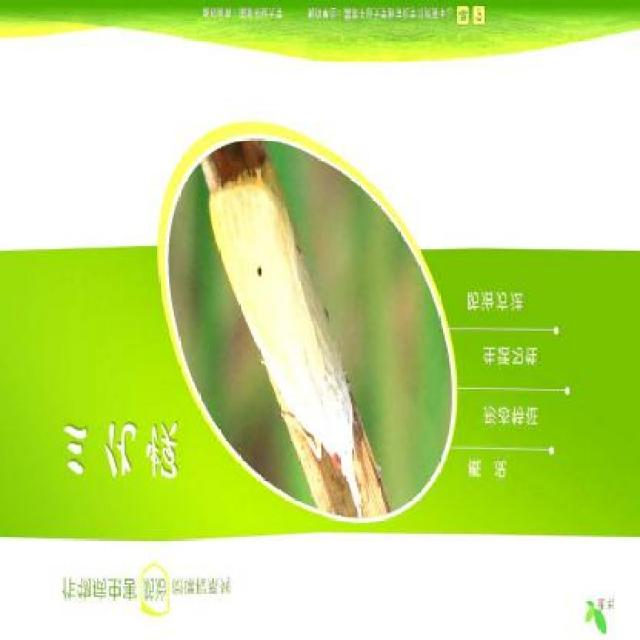stem-borer: (201, 154, 361, 513)
